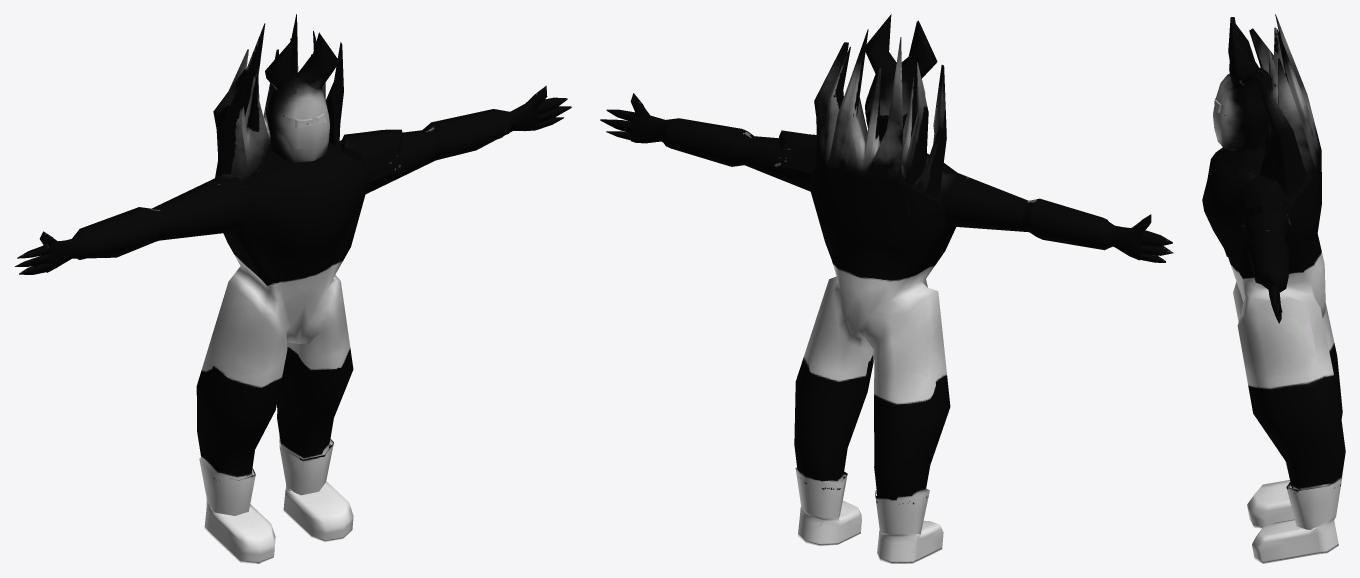
The model's file is geant des glaces texturer.fbx.
The picture shows the model from 3 angles, left to right: view 1: azimuth 30°, elevation 25°; view 2: azimuth 150°, elevation 25°; view 3: azimuth 270°, elevation 25°; orthographic projection. The views are drawn at different scales.
Visible parts, largest first — view 1: node_id7; view 2: node_id7; view 3: node_id7.
Part boxes in pixels (bbox=[...]): node_id7: bbox=[14, 14, 571, 563]; node_id7: bbox=[600, 14, 1173, 563]; node_id7: bbox=[1202, 14, 1345, 563].
Size of the model in its own units: 0.5114 by 0.4493 by 0.1134.
1 material, 1 textured.
